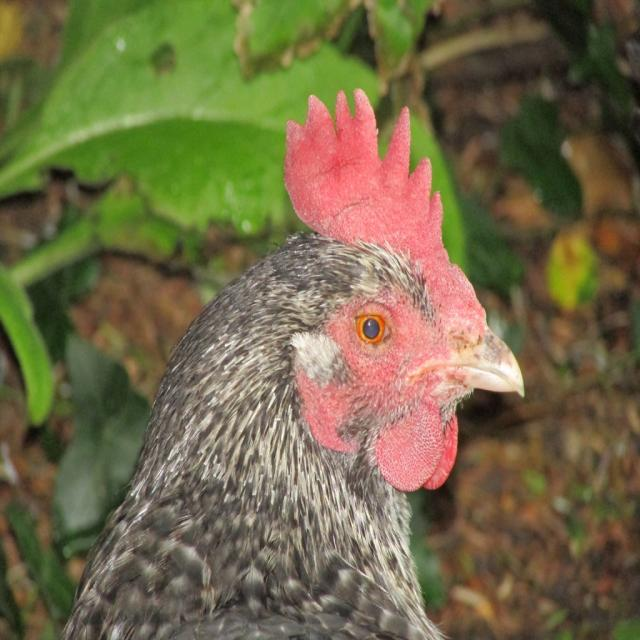Chicken: (70, 154, 499, 640)
